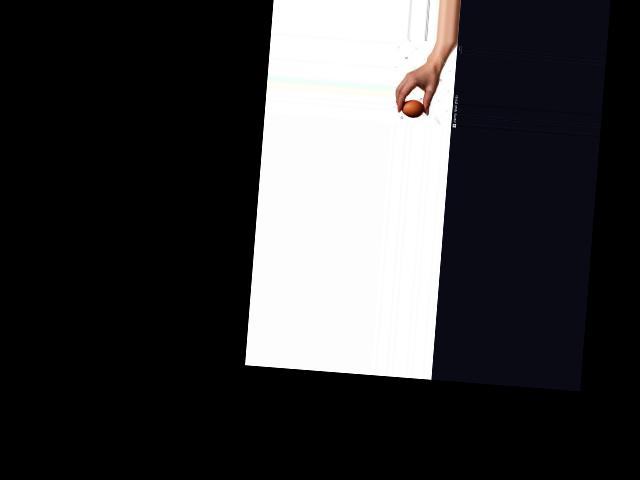egg: (401, 98, 425, 118)
